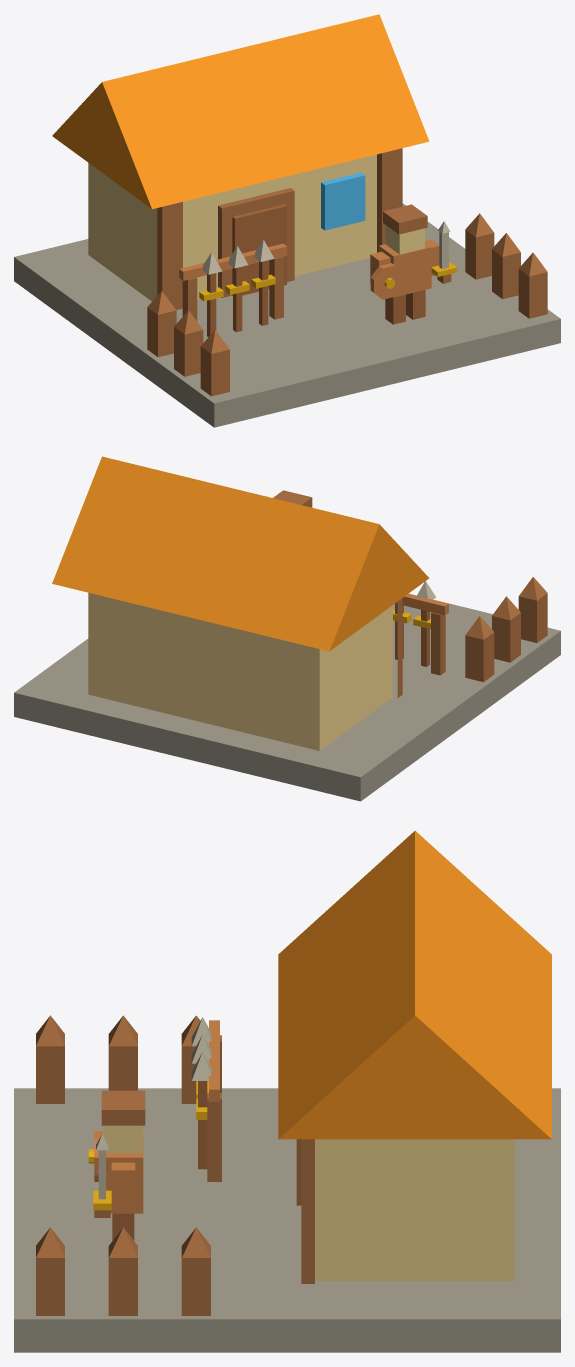
The model's file is barracks_t1_v1.glb.
3 views of the same model, one above another, from view 1: azimuth 30°, elevation 25°; view 2: azimuth 150°, elevation 25°; view 3: azimuth 270°, elevation 25° (orthographic). The views are drawn at different scales.
Visible parts, largest first — view 1: barracks_t1_v1; view 2: barracks_t1_v1; view 3: barracks_t1_v1.
Boxes of the visible parts, x1,y1,x2,y2 form: barracks_t1_v1: [14, 14, 560, 427]; barracks_t1_v1: [14, 456, 560, 801]; barracks_t1_v1: [14, 830, 560, 1352].
Bounding box in the file's own units: 0.6 × 0.38 × 0.6.
1 material, 1 textured.
